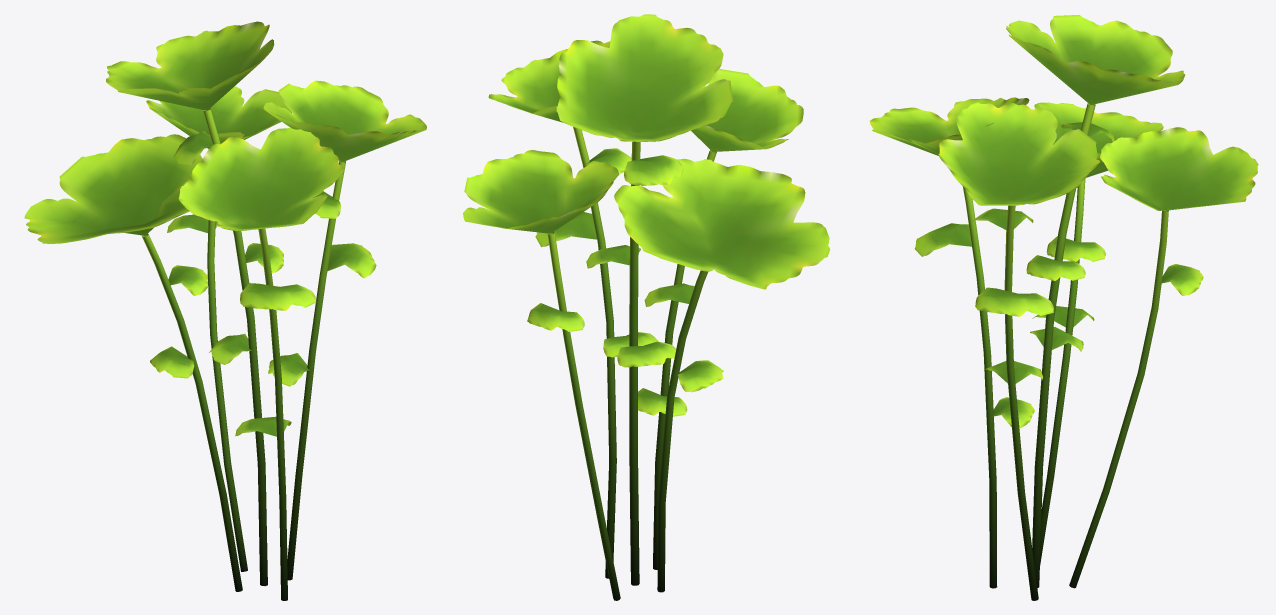
The model's file is clover_2.glb.
3 views of the same model, side by side, from view 1: azimuth 30°, elevation 25°; view 2: azimuth 150°, elevation 25°; view 3: azimuth 270°, elevation 25° (orthographic). The views are drawn at different scales.
Visible parts, largest first — view 1: Clover_2; view 2: Clover_2; view 3: Clover_2.
Part boxes in pixels (x1,y1,x2,y2): Clover_2: [24, 21, 426, 600]; Clover_2: [463, 14, 829, 600]; Clover_2: [869, 14, 1258, 600].
Size of the model in its own units: 0.8511 by 1.26 by 0.8366.
Materials: 1 (1 with a texture image).
